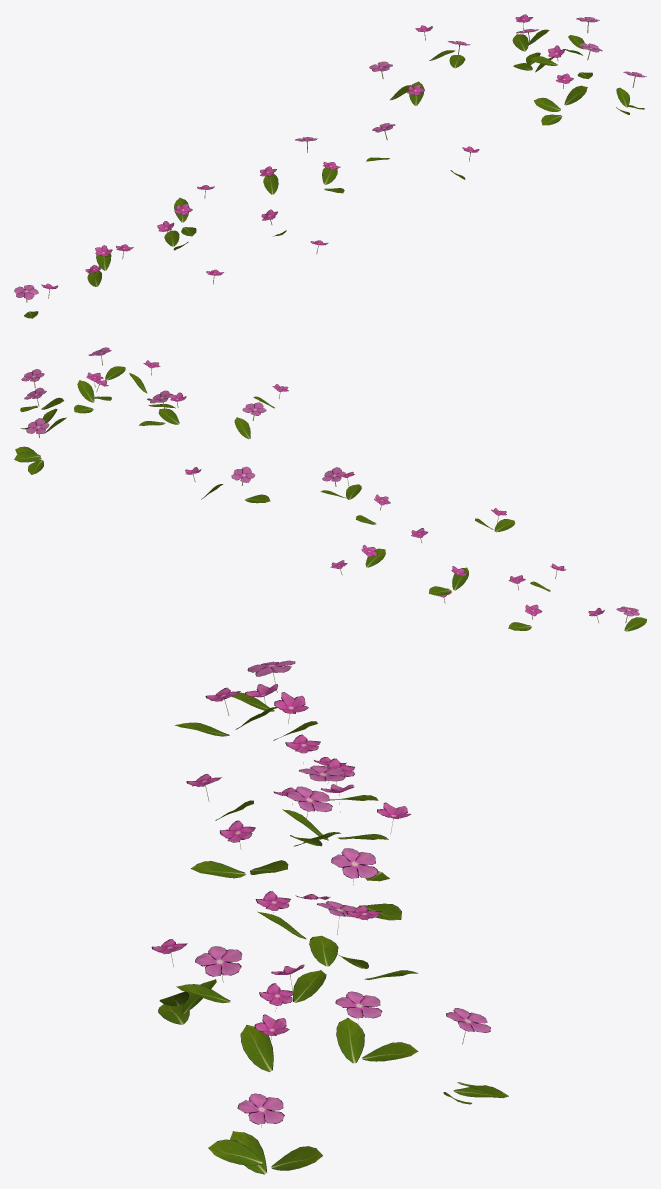
The model's file is periwinkle.glb.
3 renders of one model, top to bottom at view 1: azimuth 30°, elevation 25°; view 2: azimuth 150°, elevation 25°; view 3: azimuth 270°, elevation 25°, orthographic. The views are drawn at different scales.
Parts seen in each view (by area): view 1: periwinkle_plant_04_LOD0; view 2: periwinkle_plant_04_LOD0; view 3: periwinkle_plant_04_LOD0.
Boxes of the visible parts, x1=… form: periwinkle_plant_04_LOD0: x1=14, y1=14, x2=646, y2=318; periwinkle_plant_04_LOD0: x1=14, y1=347, x2=646, y2=631; periwinkle_plant_04_LOD0: x1=151, y1=660, x2=508, y2=1174.
Size of the model in its own units: 1.27 by 0.3399 by 0.3205.
Materials: 1 (1 with a texture image).
